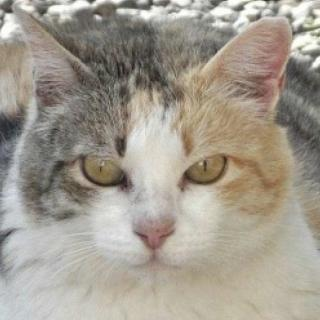cat: (15, 6, 301, 285)
nose: (123, 202, 177, 254)
